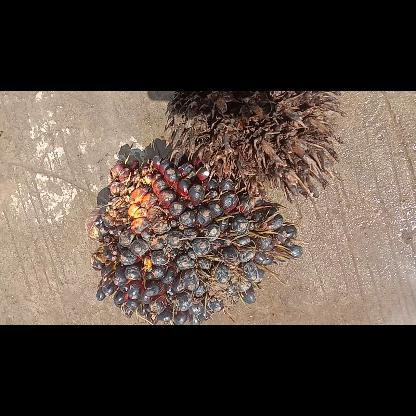Janjang kosong: (165, 91, 345, 203)
TBS mentah: (84, 152, 308, 324)
